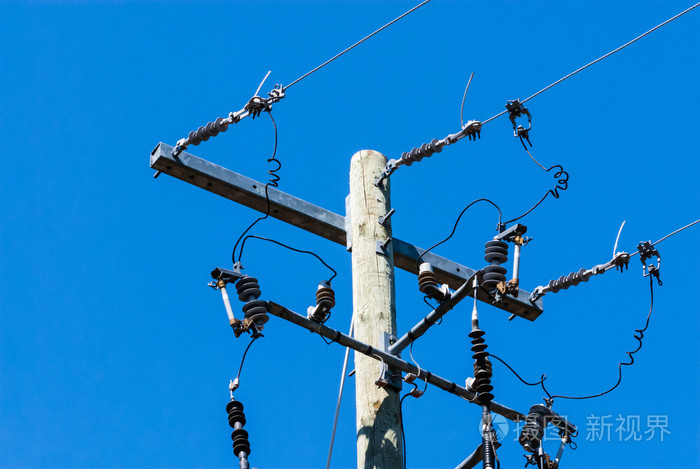insulator: (470, 328, 495, 399), (226, 403, 254, 458), (234, 277, 267, 321), (483, 239, 508, 284), (315, 285, 337, 308), (416, 272, 438, 291)
